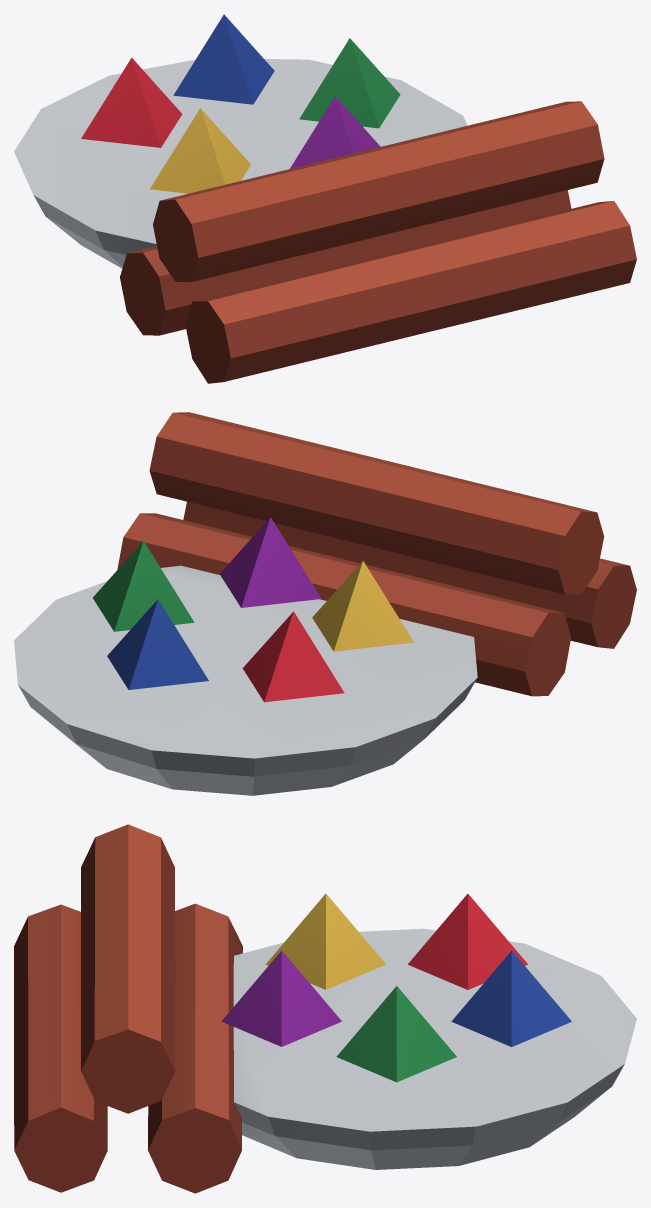
The picture shows the model from 3 angles, top to bottom: view 1: azimuth 30°, elevation 25°; view 2: azimuth 150°, elevation 25°; view 3: azimuth 270°, elevation 25°; orthographic projection. The views are drawn at different scales.
Parts seen in each view (by area): view 1: base; view 2: base; view 3: base.
Part boxes in pixels (box(x1,y1,x2,y2)): base: box(14, 14, 636, 383); base: box(14, 412, 636, 795); base: box(14, 824, 636, 1193).
Bounding box in the file's own units: 0.36 × 0.1358 × 0.4639.
